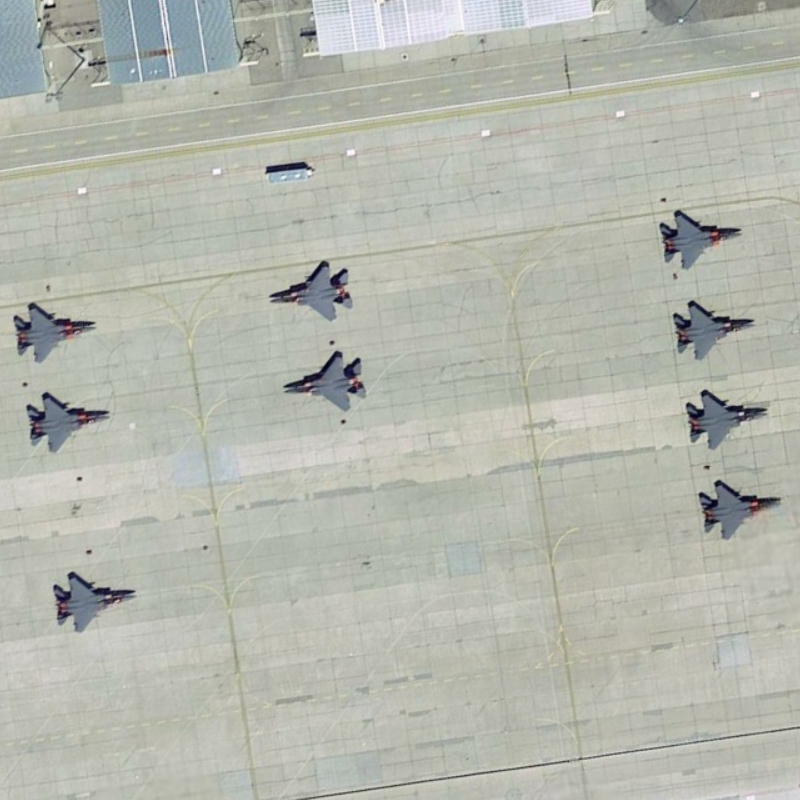A13: (648, 197, 747, 278), (279, 339, 376, 419), (263, 260, 366, 330), (45, 564, 140, 638), (696, 472, 786, 547), (22, 383, 113, 457), (669, 292, 759, 366), (678, 387, 775, 455), (10, 295, 102, 363)
